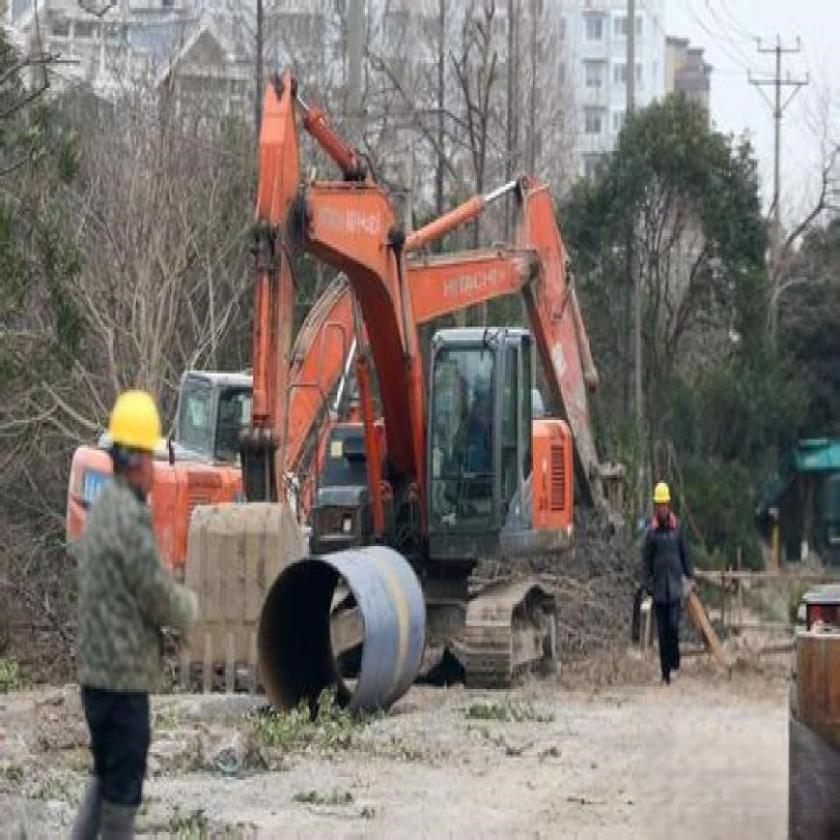Con_casco: (102, 387, 170, 495)
